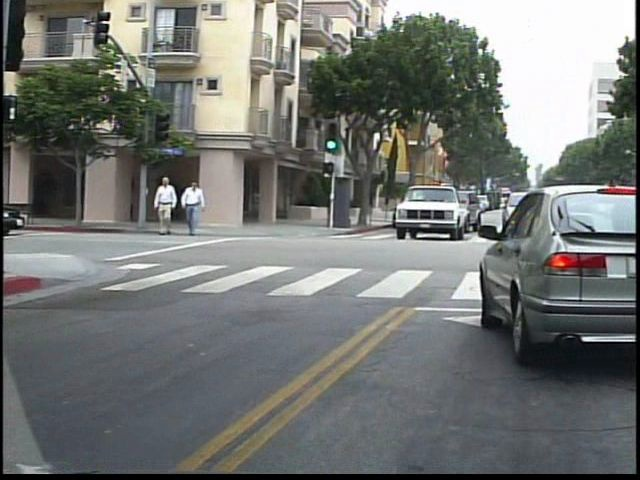person: (159, 174, 187, 242), (188, 174, 216, 240)
